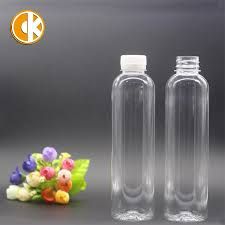available: (163, 51, 216, 225), (109, 60, 159, 225)
